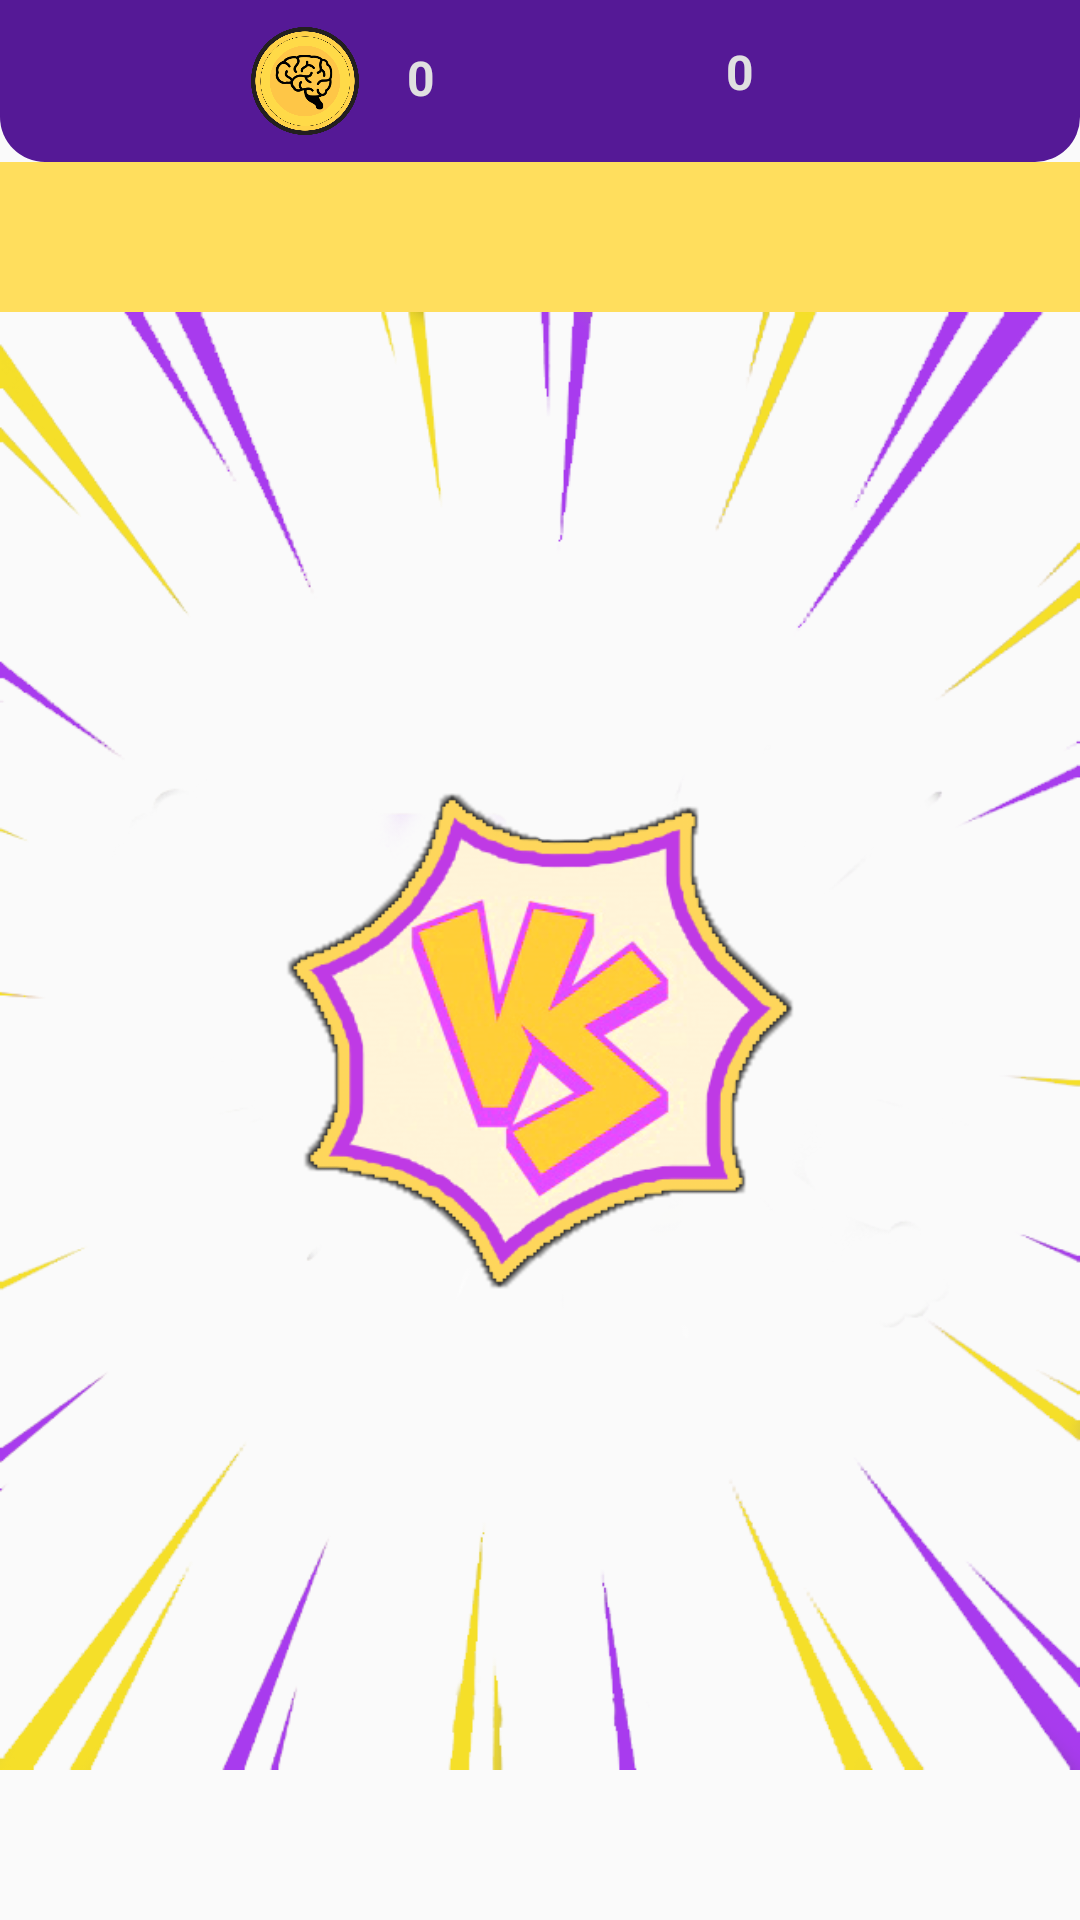

Icon click points for this 1080*1920 phone screenshot, format point (x, y):
braincoin: point (305, 81)
